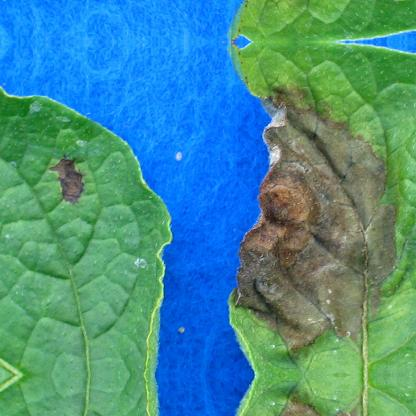Early-Blight: (209, 44, 414, 374), (4, 74, 193, 300)
